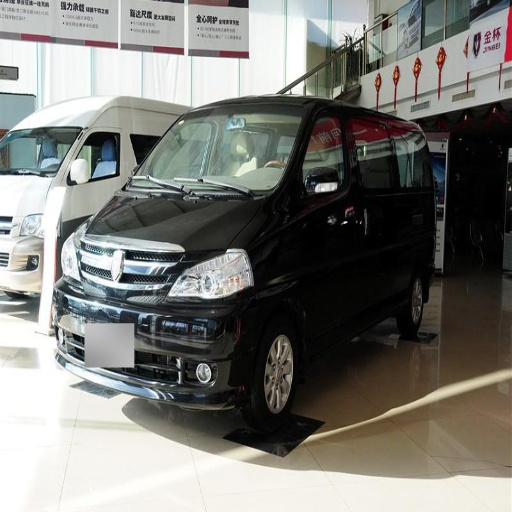back_right_light: (314, 118, 409, 181)
front_bumper: (55, 238, 264, 406)
front_glass: (136, 104, 287, 196)
front_left_door: (310, 270, 370, 340)
trunk: (306, 144, 347, 205)
